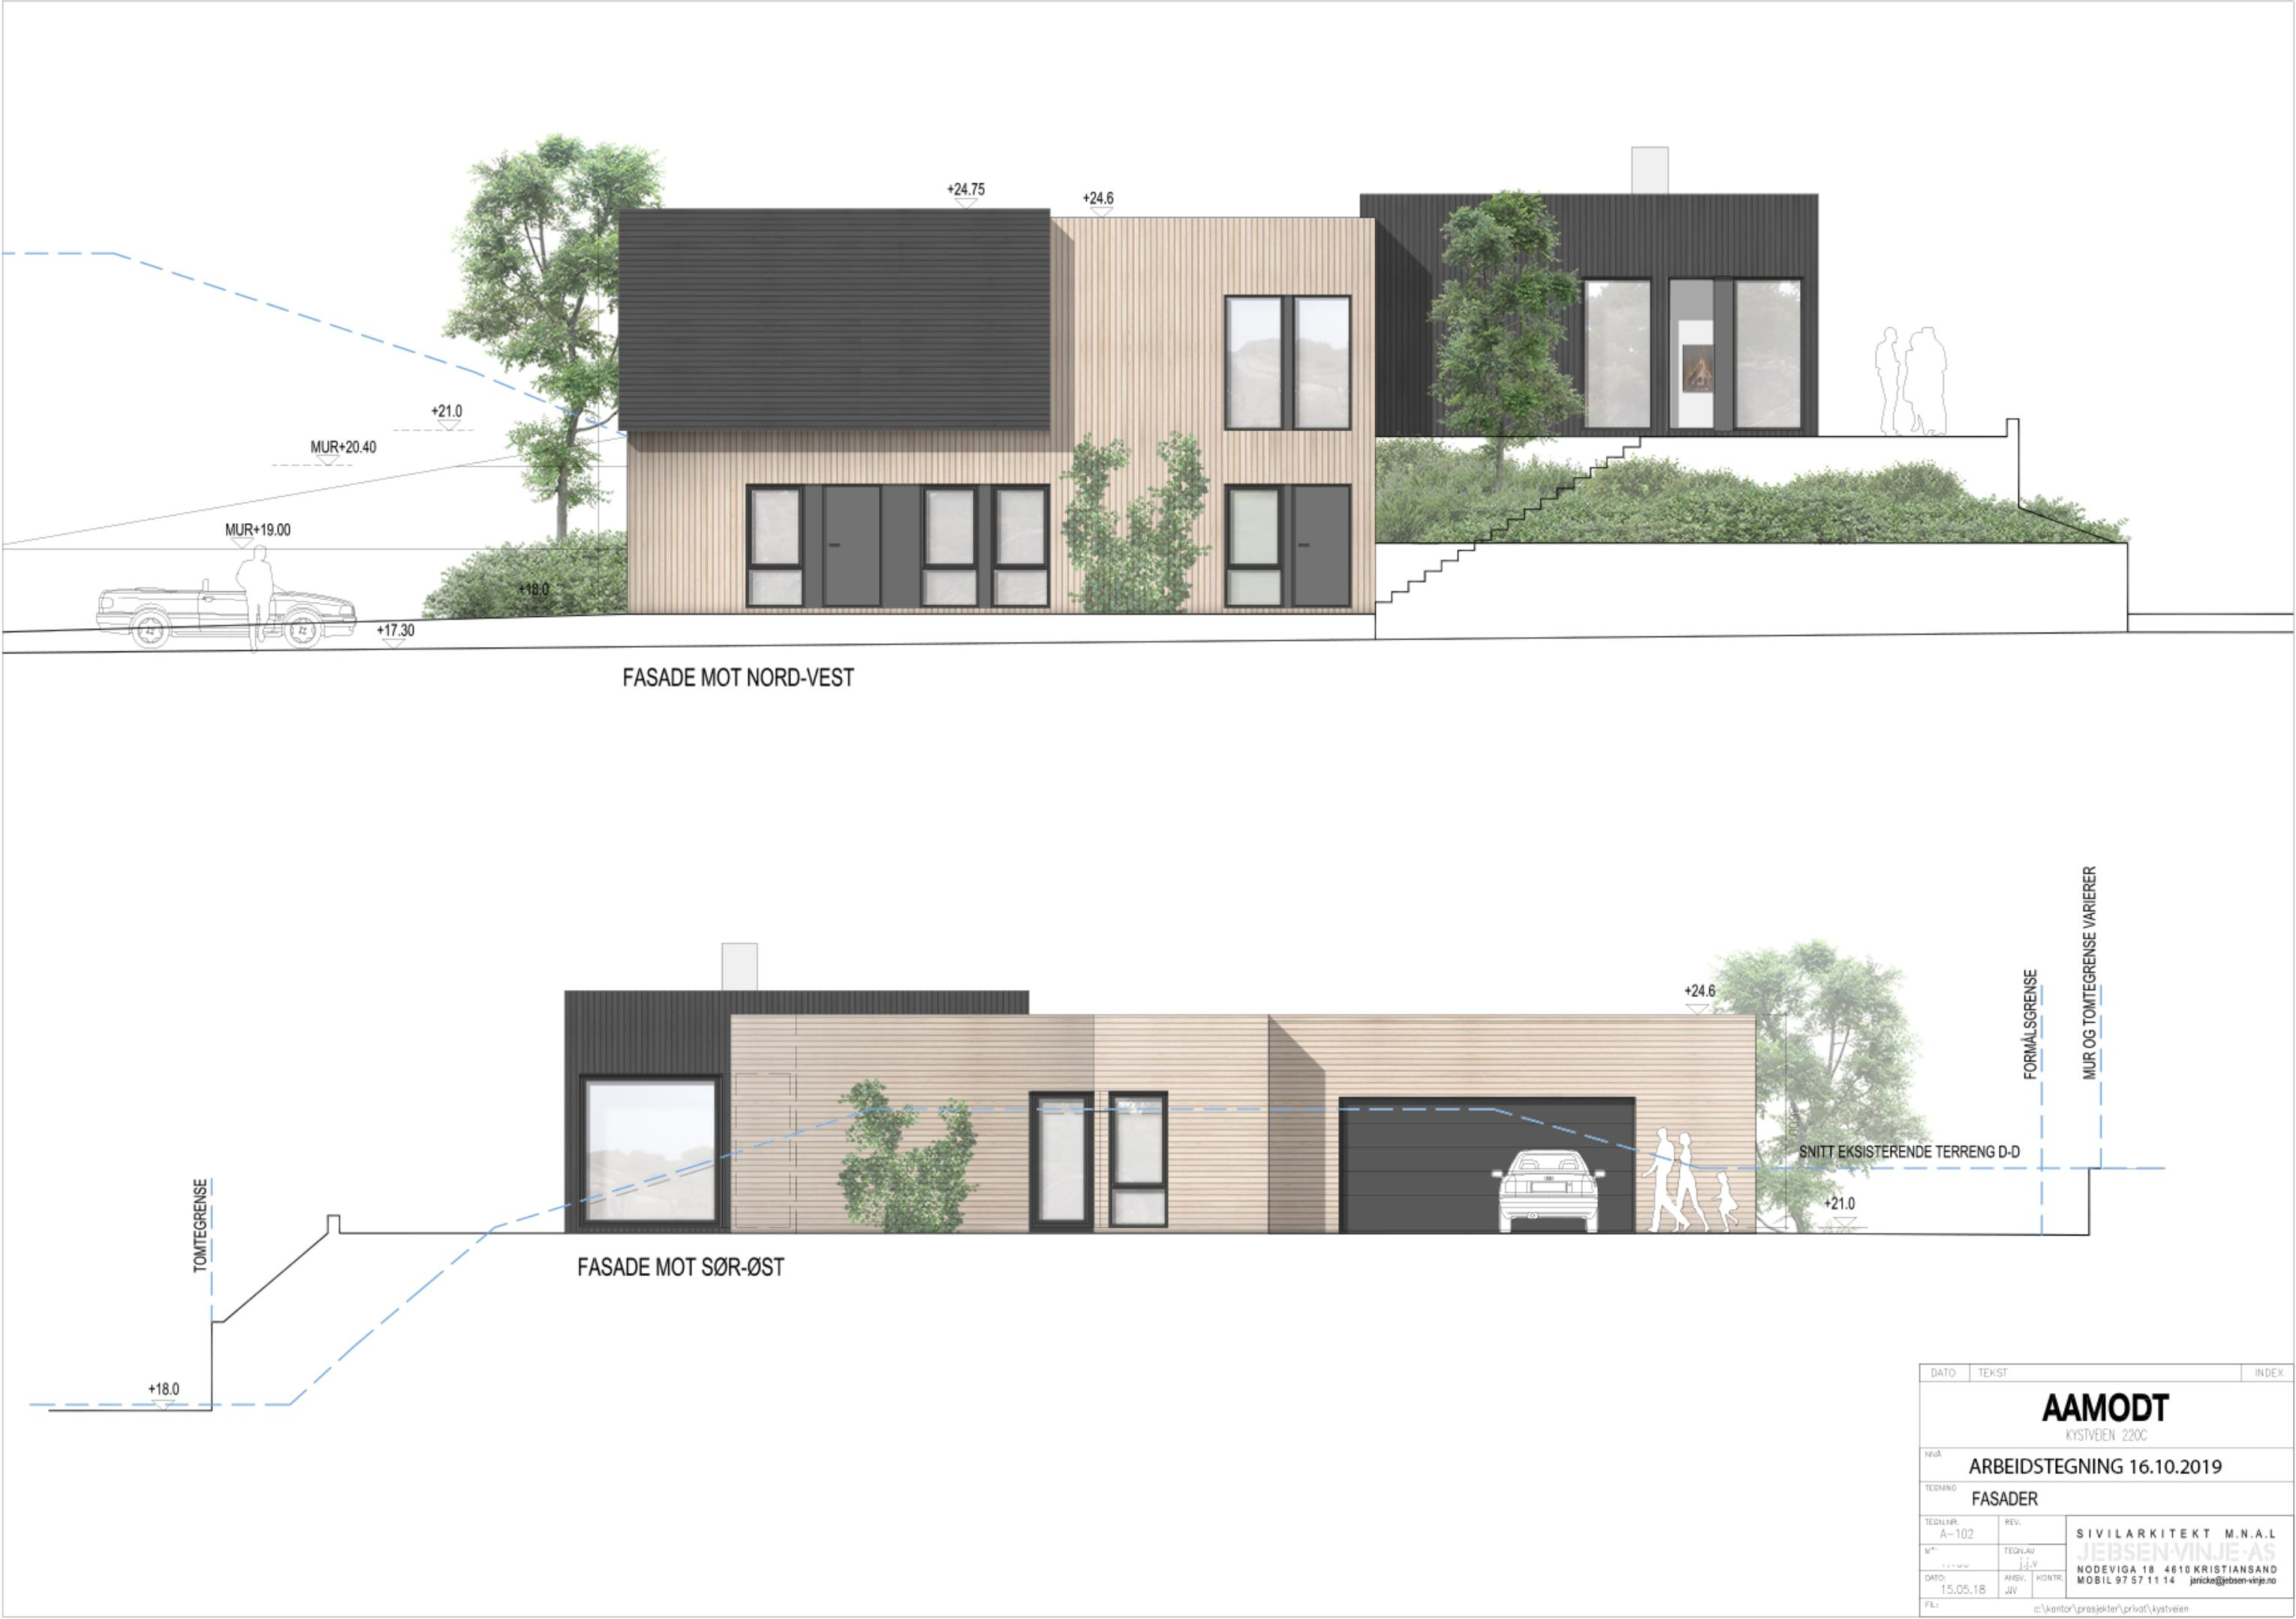fasade: (616, 152, 1821, 629), (559, 937, 1762, 1244)
